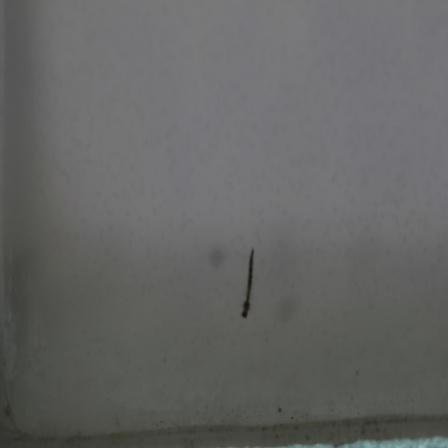Jentik-Nyamuk: (239, 246, 267, 321)
